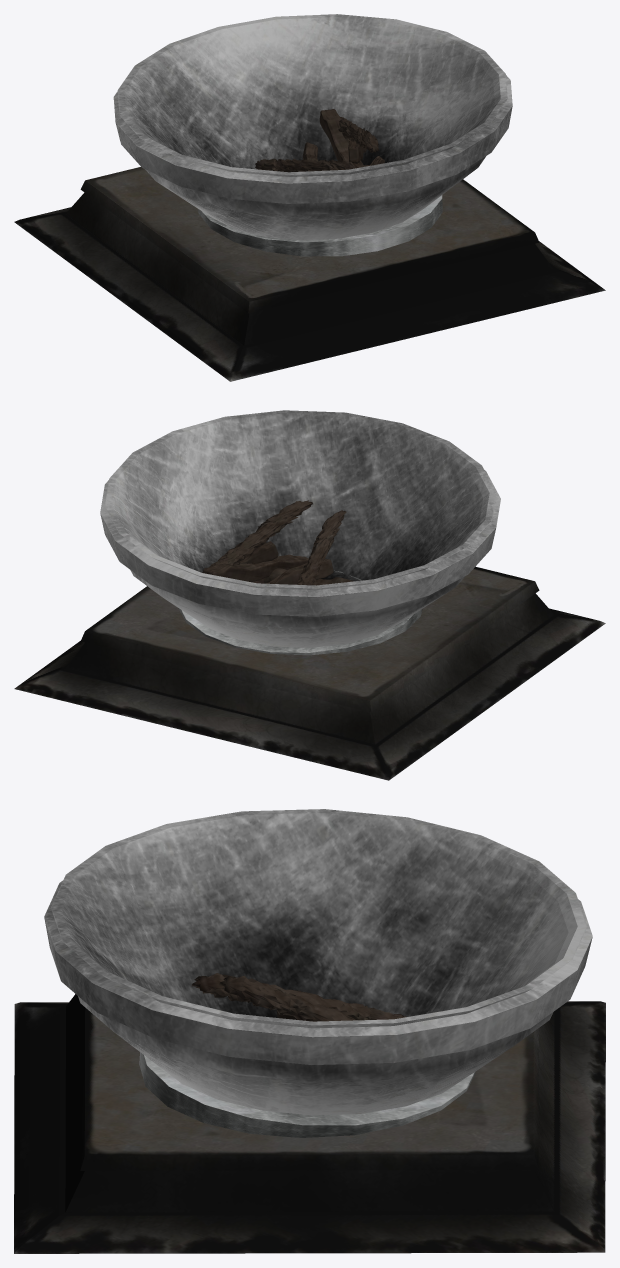
The model's file is Torch.fbx.
3 views of the same model, one above another, from view 1: azimuth 30°, elevation 25°; view 2: azimuth 150°, elevation 25°; view 3: azimuth 270°, elevation 25° (orthographic). The views are drawn at different scales.
Parts seen in each view (by area): view 1: Fogón.001, Base_Fogón, Sostenedor_fogón, Tronco21, Tronco18, Tronco19; view 2: Fogón.001, Base_Fogón, Sostenedor_fogón, Tronco19, Tronco18, Tronco21, Tronco20, Tronco23; view 3: Fogón.001, Base_Fogón, Sostenedor_fogón, Tronco19, Tronco21.
Part boxes in pixels (left/top/right/bottom): Fogón.001: left=113, top=14, right=512, bottom=240; Base_Fogón: left=14, top=167, right=605, bottom=381; Sostenedor_fogón: left=198, top=195, right=442, bottom=256; Tronco21: left=255, top=158, right=358, bottom=172; Tronco18: left=319, top=109, right=364, bottom=167; Tronco19: left=338, top=116, right=378, bottom=152; Fogón.001: left=100, top=410, right=500, bottom=647; Base_Fogón: left=14, top=566, right=605, bottom=780; Sostenedor_fogón: left=178, top=570, right=422, bottom=655; Tronco19: left=202, top=500, right=312, bottom=572; Tronco18: left=203, top=554, right=308, bottom=581; Tronco21: left=296, top=510, right=346, bottom=585; Tronco20: left=266, top=559, right=333, bottom=584; Tronco23: left=240, top=541, right=278, bottom=563; Fogón.001: left=44, top=809, right=592, bottom=1115; Base_Fogón: left=14, top=994, right=605, bottom=1253; Sostenedor_fogón: left=139, top=1052, right=475, bottom=1137; Tronco19: left=218, top=975, right=357, bottom=1021; Tronco21: left=191, top=973, right=405, bottom=1020.
Size of the model in its own units: 213 by 90.55 by 213.
